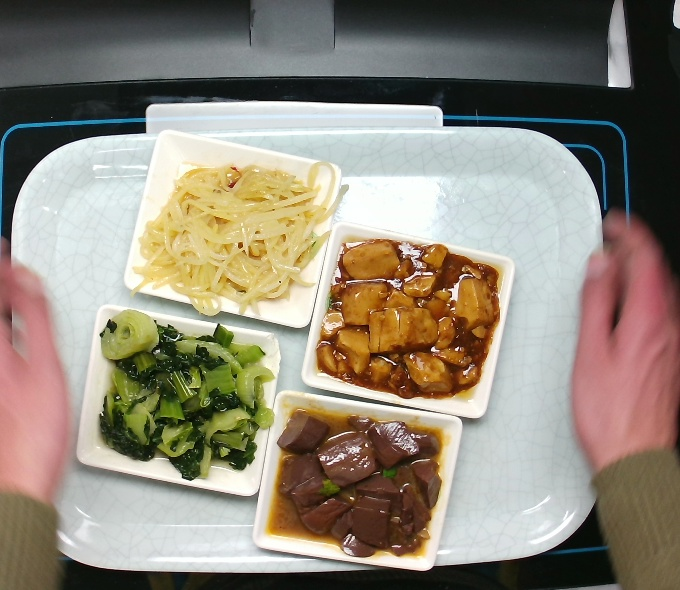wcq-MaPoDouFu: (305, 225, 509, 411)
wcq-NiuXue: (250, 384, 454, 570)
wcq-TuDouSi: (132, 144, 336, 330)
wcq-YouDongCai: (76, 309, 280, 495)
